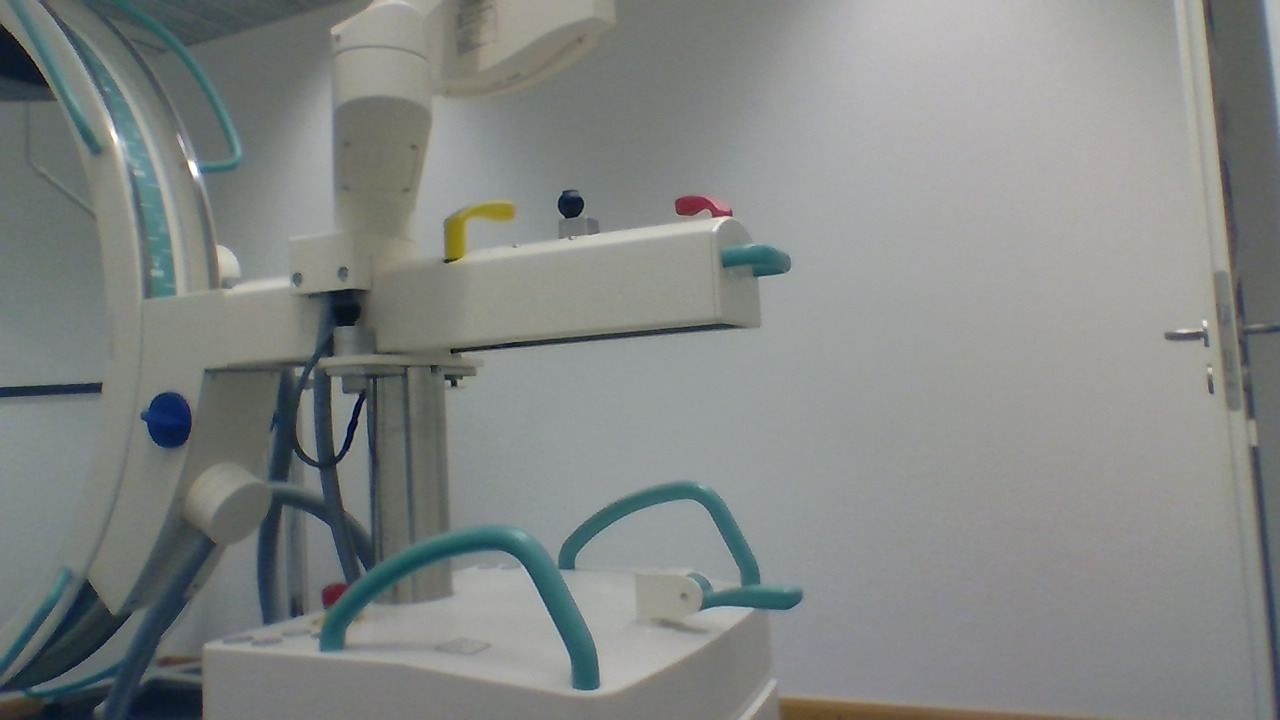carmBACK: (633, 569, 805, 628)
carmLOCK: (137, 388, 192, 450)
